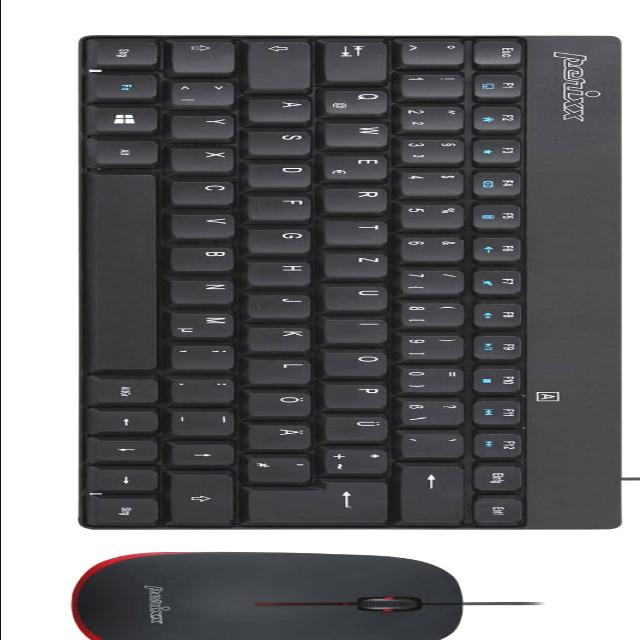0: (400, 365, 470, 391)
1: (402, 70, 472, 96)
2: (402, 104, 472, 130)
3: (402, 135, 472, 163)
4: (402, 169, 472, 195)
5: (402, 201, 470, 227)
6: (402, 234, 470, 260)
7: (400, 267, 470, 293)
8: (400, 299, 470, 325)
9: (400, 332, 470, 359)
a: (251, 96, 319, 121)
accent: (403, 430, 471, 456)
ae: (251, 422, 319, 448)
alt-left: (95, 139, 165, 164)
altgr-right: (93, 375, 163, 403)
b: (175, 244, 242, 270)
c: (174, 178, 242, 204)
caret: (402, 38, 472, 64)
comma: (174, 342, 242, 368)
d: (249, 160, 319, 186)
del: (403, 463, 471, 522)
e: (325, 152, 395, 179)
enter: (250, 479, 396, 522)
f: (251, 193, 319, 218)
g: (251, 227, 319, 251)
h: (251, 259, 317, 285)
hash: (249, 454, 319, 480)
i: (329, 316, 395, 342)
j: (251, 292, 318, 317)
k: (250, 324, 318, 350)
keyboard: (73, 33, 544, 532)
l: (251, 357, 318, 382)
less: (173, 79, 243, 105)
m: (171, 309, 241, 336)
minus: (174, 409, 242, 435)
n: (174, 277, 241, 303)
o: (327, 347, 394, 375)
oe: (251, 389, 318, 415)
p: (326, 380, 394, 407)
plus: (326, 445, 396, 472)
point: (174, 375, 241, 401)
q: (325, 86, 395, 113)
r: (326, 184, 394, 211)
s: (249, 127, 319, 153)
shift-left: (174, 38, 242, 72)
shift-lock: (249, 39, 319, 89)
shift-right: (172, 473, 240, 523)
space: (89, 170, 165, 369)
ss: (400, 396, 470, 423)
strg-left: (95, 39, 165, 65)
strg-right: (91, 497, 164, 525)
t: (329, 218, 395, 243)
tab: (327, 38, 397, 80)
u: (328, 283, 396, 309)
ue: (326, 413, 396, 440)
v: (175, 211, 242, 236)
w: (328, 119, 396, 145)
x: (174, 145, 242, 171)
y: (174, 112, 242, 138)
z: (326, 251, 394, 276)
